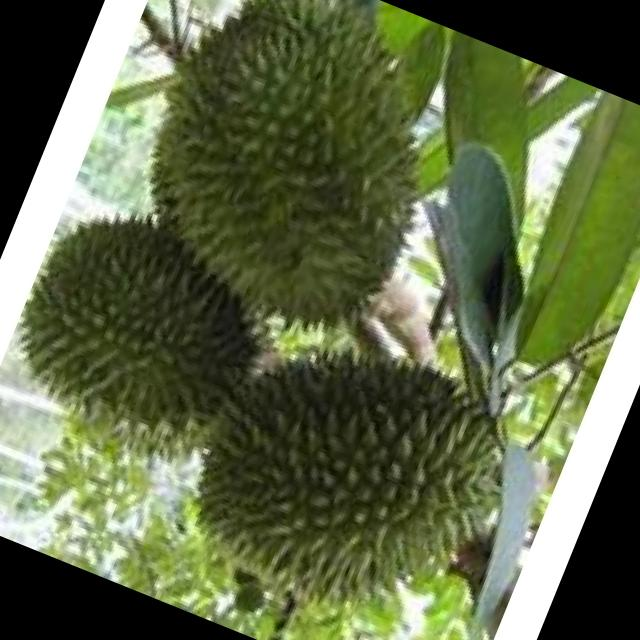fruit: (68, 0, 528, 398), (121, 264, 550, 640), (0, 178, 298, 493)
